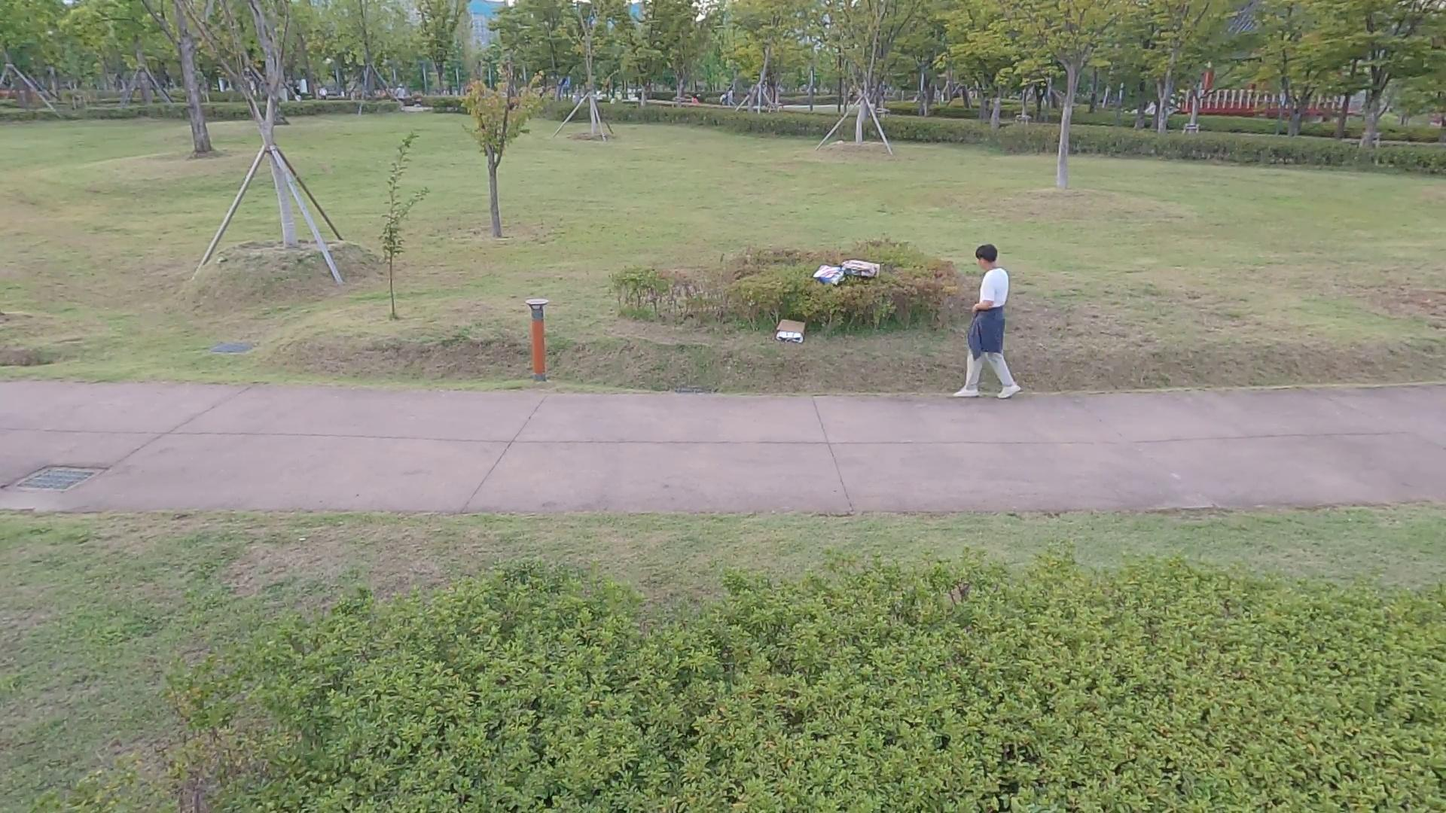person: (953, 242, 1022, 400)
trash: (840, 257, 881, 281), (773, 318, 808, 345), (815, 263, 844, 284)
